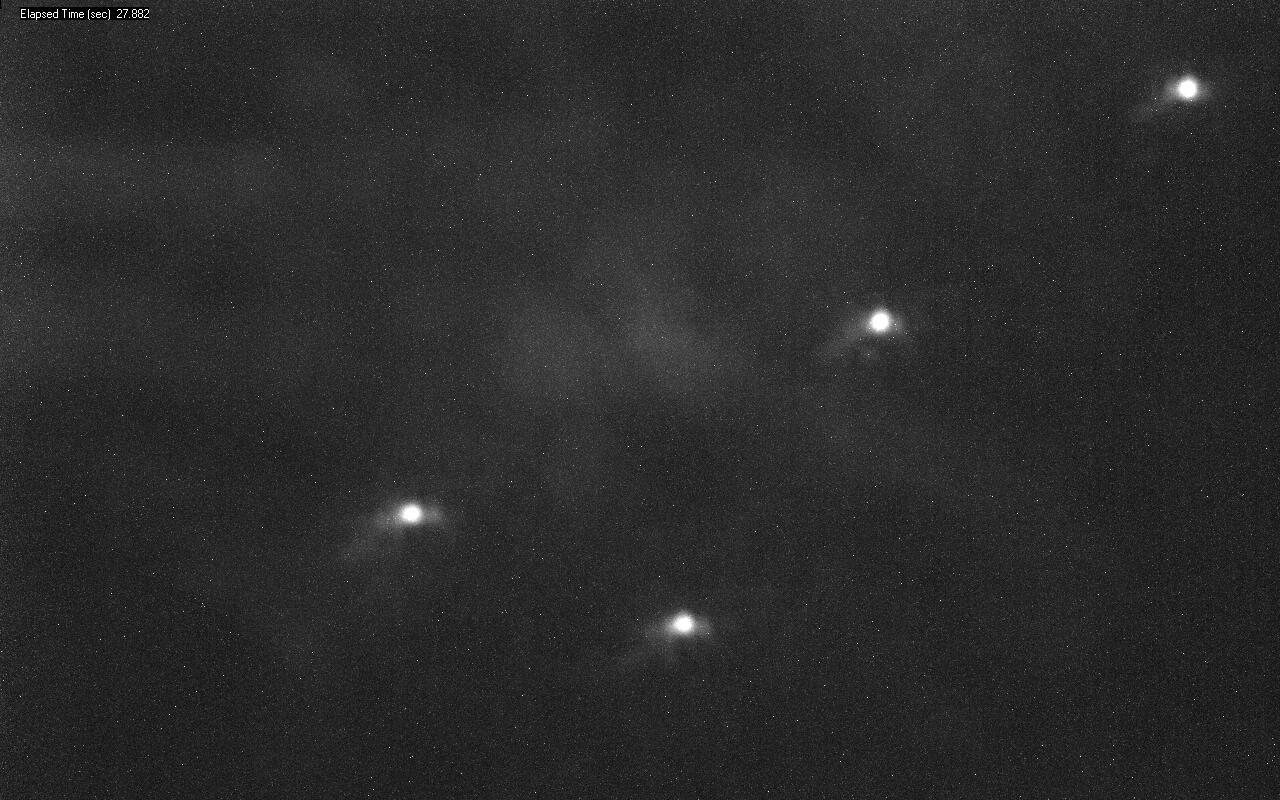Bead: (1170, 76, 1203, 102), (865, 309, 894, 336), (668, 612, 698, 636), (398, 503, 428, 525)
